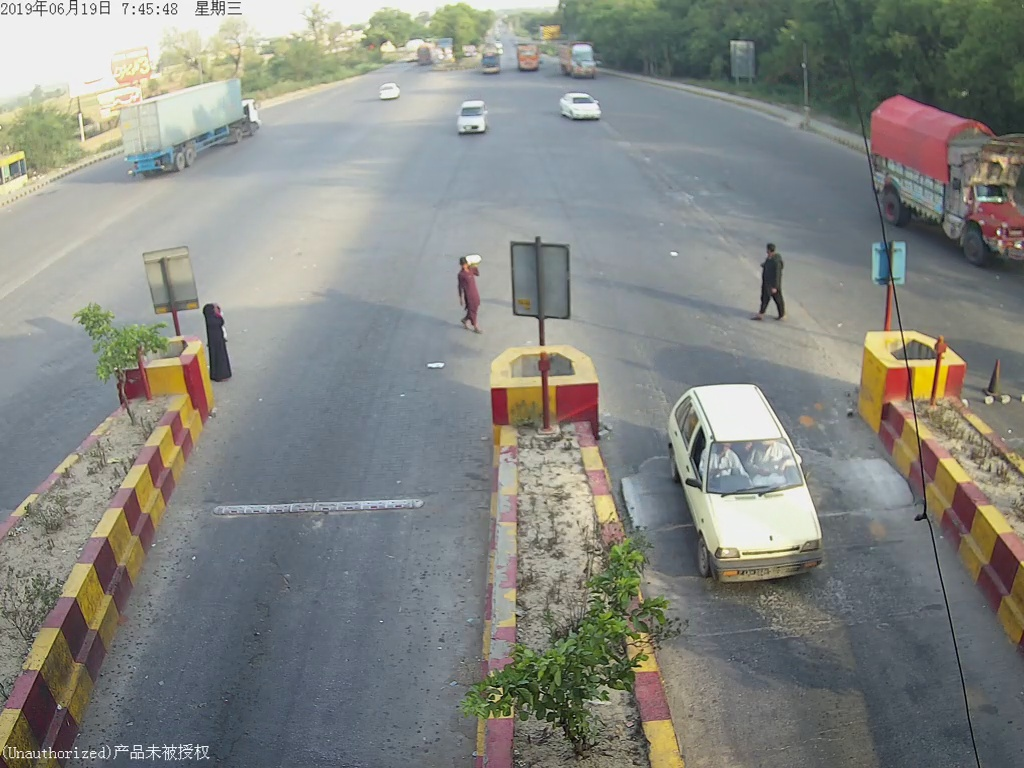Cat-1: (661, 381, 824, 586)
